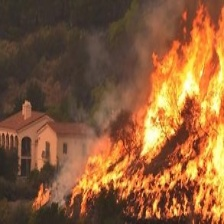fire: (29, 1, 223, 224)
smoke: (53, 128, 85, 181)
